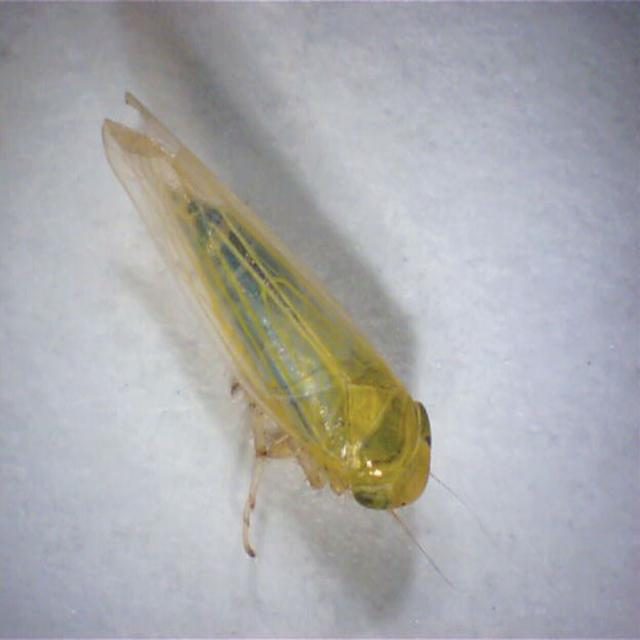Yechan: (87, 74, 449, 540)
